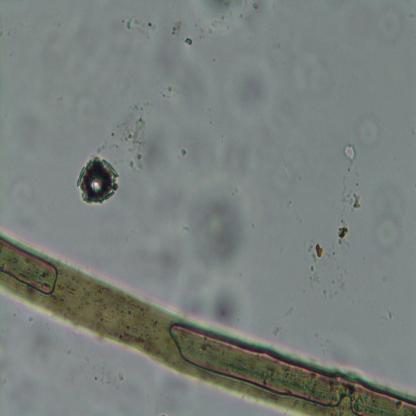Background material: (213, 72, 287, 195), (191, 187, 251, 266), (140, 218, 188, 300), (143, 132, 185, 216), (22, 320, 69, 380), (196, 1, 259, 45), (280, 45, 326, 105), (73, 154, 120, 206), (380, 176, 412, 250), (122, 15, 193, 48), (115, 110, 149, 172), (208, 277, 244, 328), (306, 263, 350, 303), (373, 7, 414, 47), (77, 360, 123, 394), (336, 172, 367, 206), (358, 118, 380, 146), (334, 220, 351, 245), (344, 143, 356, 164), (312, 241, 324, 260), (179, 141, 187, 160)
Microfibre: (0, 235, 416, 415)
